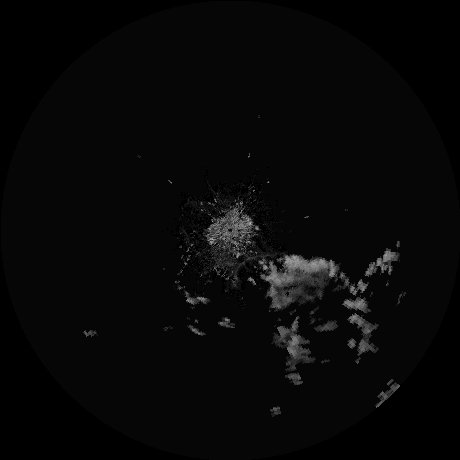frontgust: (231, 253, 281, 283)
